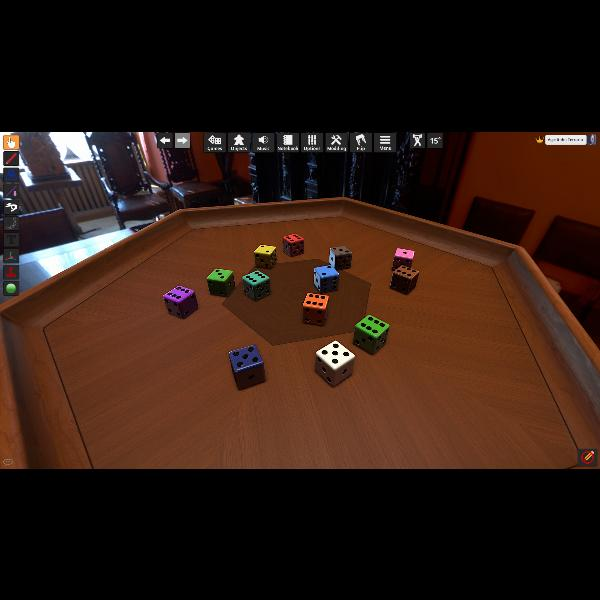d6: (228, 344, 268, 390), (314, 339, 352, 385), (353, 314, 388, 353), (163, 284, 199, 320), (390, 264, 418, 294), (242, 270, 270, 300), (206, 268, 232, 298), (302, 293, 326, 325), (314, 264, 338, 294), (328, 245, 352, 270), (254, 244, 276, 268), (392, 247, 414, 271), (282, 234, 304, 256)
